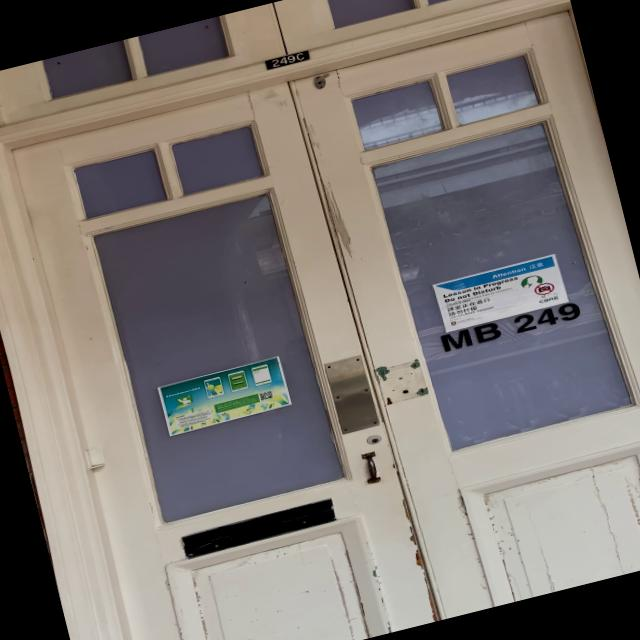room249c: (259, 44, 317, 74)
room249cWindow: (433, 295, 588, 356)
